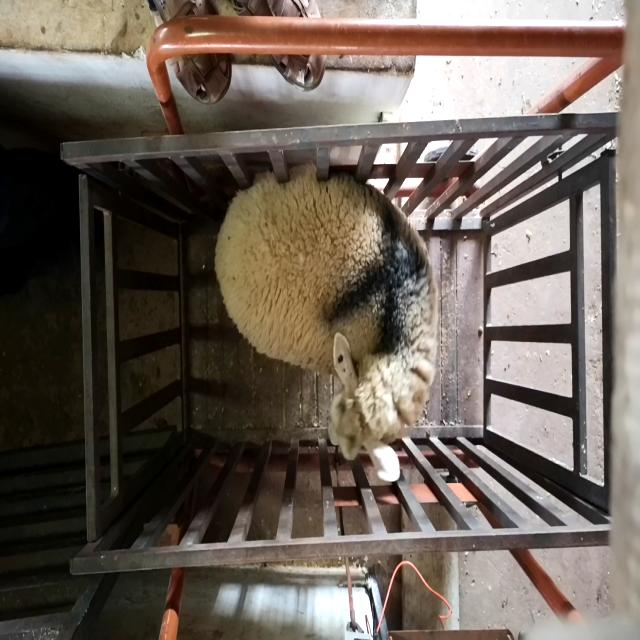sheep: (213, 167, 439, 482)
